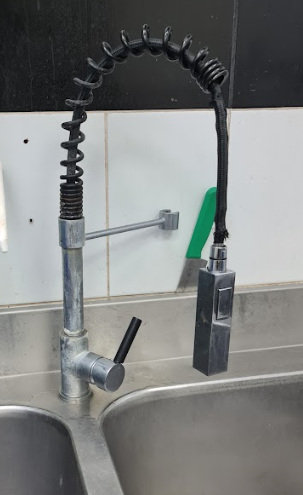Deck Faucet: (42, 21, 251, 439)
